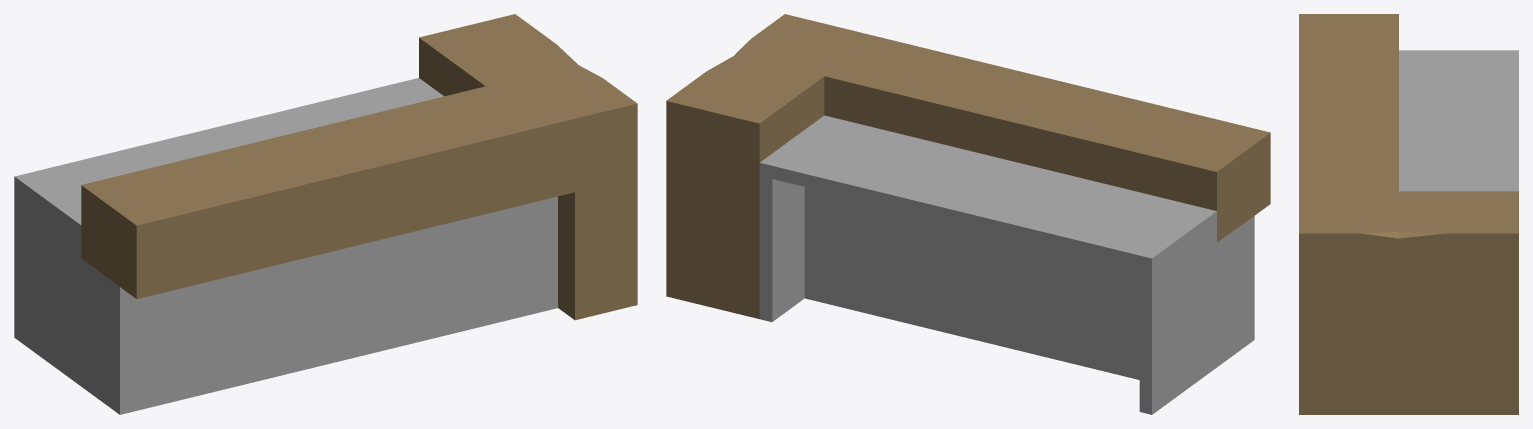
Rendered from SM_Props_Interior_Generic_Office_Counter.fbx.
3 views of the same model, side by side, from view 1: azimuth 30°, elevation 25°; view 2: azimuth 150°, elevation 25°; view 3: azimuth 270°, elevation 25° (orthographic). The views are drawn at different scales.
Parts seen in each view (by area): view 1: SM_Props_Interior_Generic_Office_Counter; view 2: SM_Props_Interior_Generic_Office_Counter; view 3: SM_Props_Interior_Generic_Office_Counter.
Boxes of the visible parts, <box> form: SM_Props_Interior_Generic_Office_Counter: <box>14,14,637,414</box>; SM_Props_Interior_Generic_Office_Counter: <box>666,14,1270,414</box>; SM_Props_Interior_Generic_Office_Counter: <box>1299,14,1518,414</box>.
Size of the model in its own units: 260 by 100 by 110.
